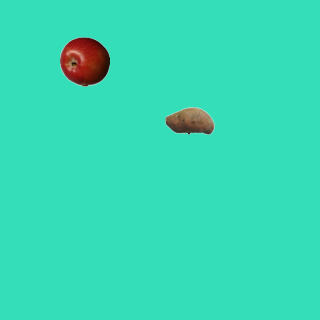Apple Braeburn: (59, 36, 109, 86)
Potato Sweet: (164, 95, 214, 145)
